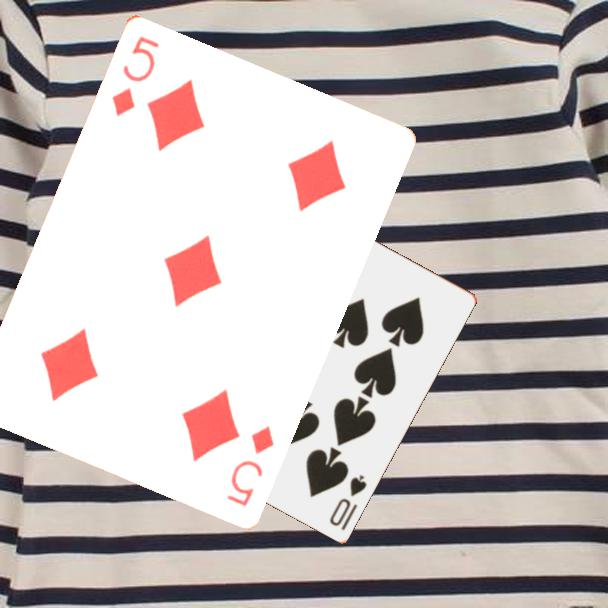d05: (107, 31, 162, 120), (223, 421, 277, 509)
s10: (326, 471, 369, 533)
